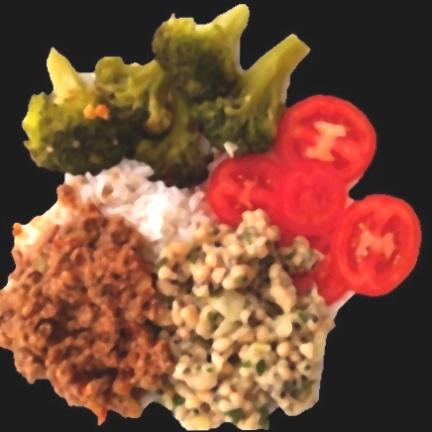broccoli: (21, 4, 308, 187)
meat: (0, 185, 172, 422)
rice: (64, 160, 213, 260)
tomato: (207, 96, 421, 305)
